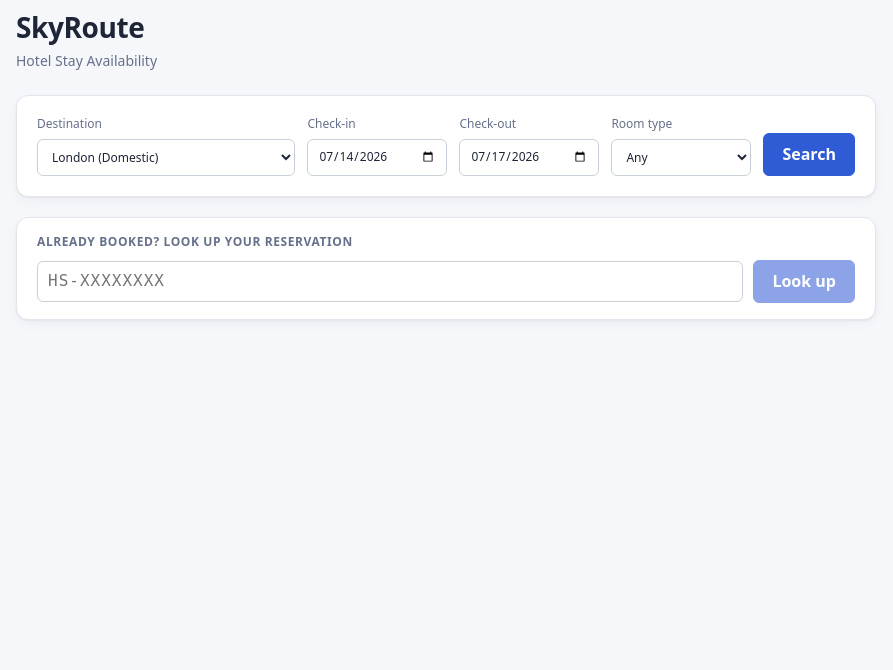
App › renders search form and performs a full search + reserve flow
Expected: the dropdown labelled "Destination" is shown, 37,139 -> 295,176
Click the button "Search" at (809, 154), box 763,133 -> 855,176
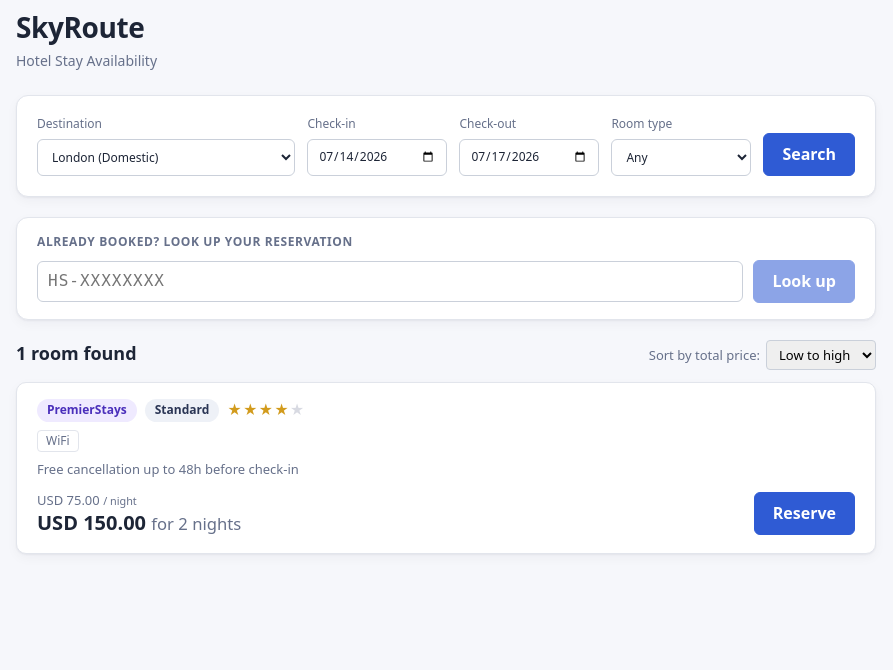
Result: the heading "1 room found" is shown at 16,341 -> 137,366
Result: the text "PremierStays" is shown at 37,399 -> 137,422
Click the button "Reserve" at (804, 514), box 754,492 -> 855,535
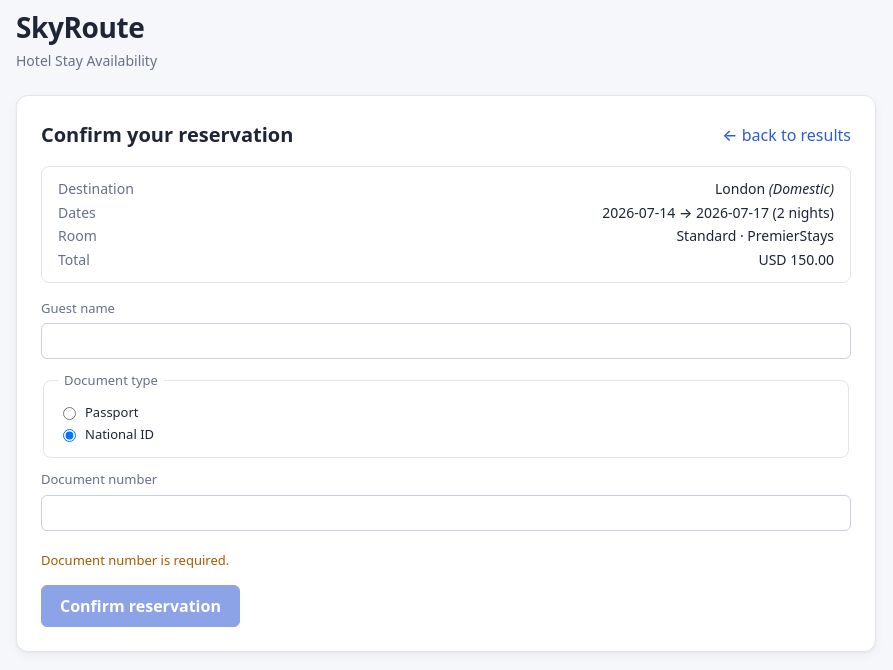
Result: the button "Confirm reservation" is shown at 41,585 -> 240,627
Type "Grace Hopper" into the field labelled "Guest name" at (446, 341), box 41,323 -> 851,359
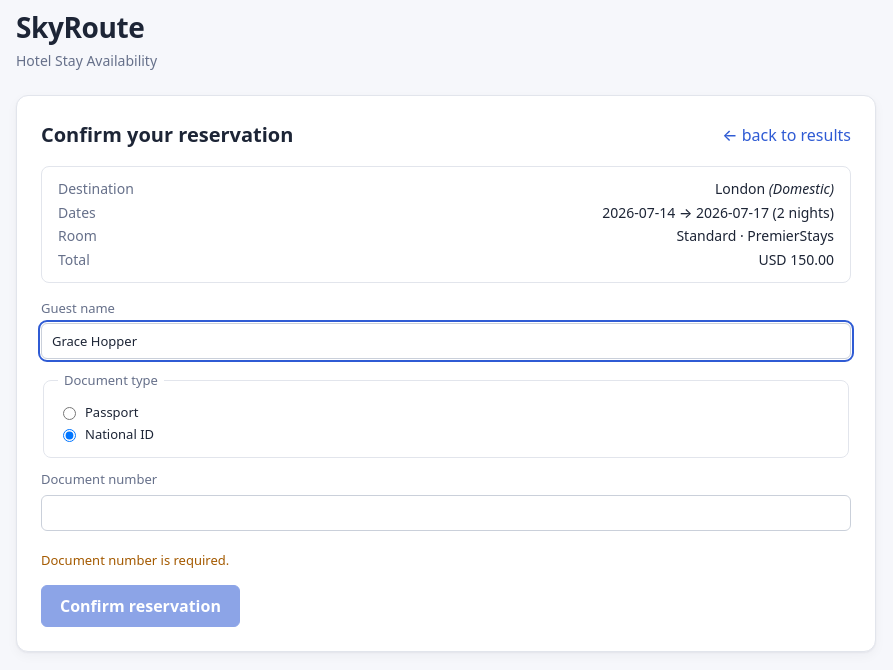
Type "GH-1906" into the field labelled "Document number" at (446, 513), box 41,495 -> 851,531
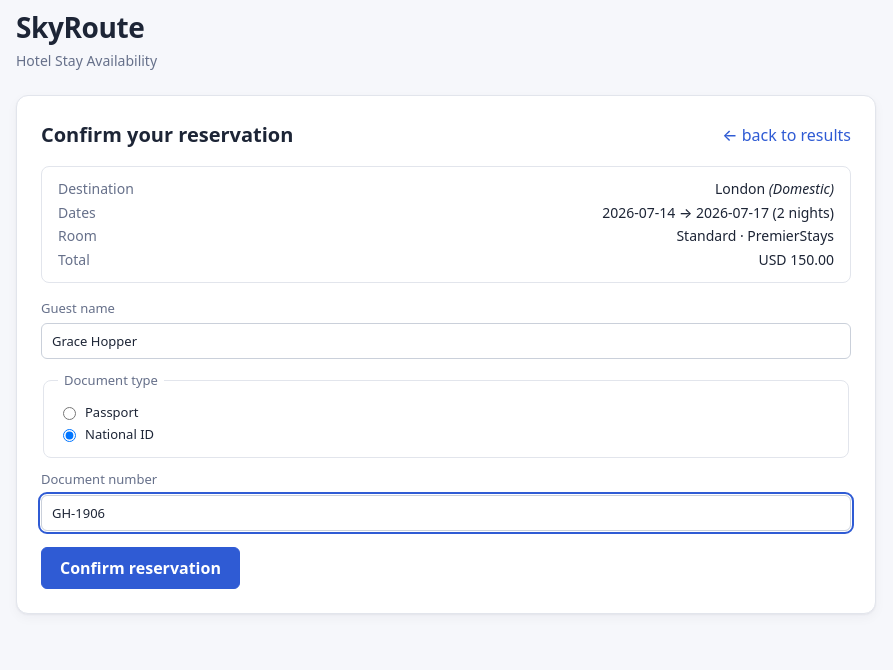
Click the button "Confirm reservation" at (140, 568), box 41,547 -> 240,589
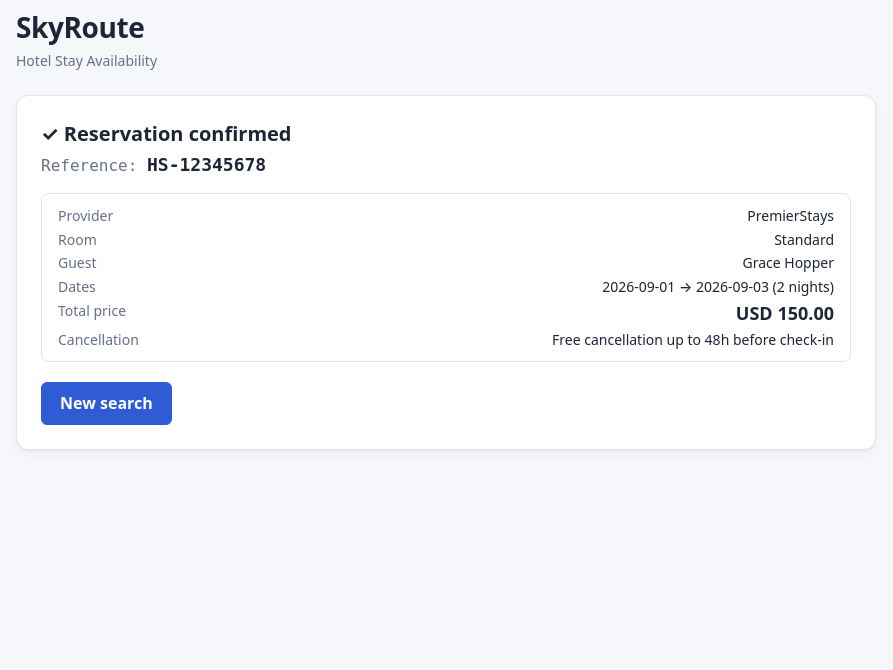
Result: the heading "✓ Reservation confirmed" is shown at 41,120 -> 292,147
Result: the text "HS-12345678" is shown at 147,154 -> 266,175
